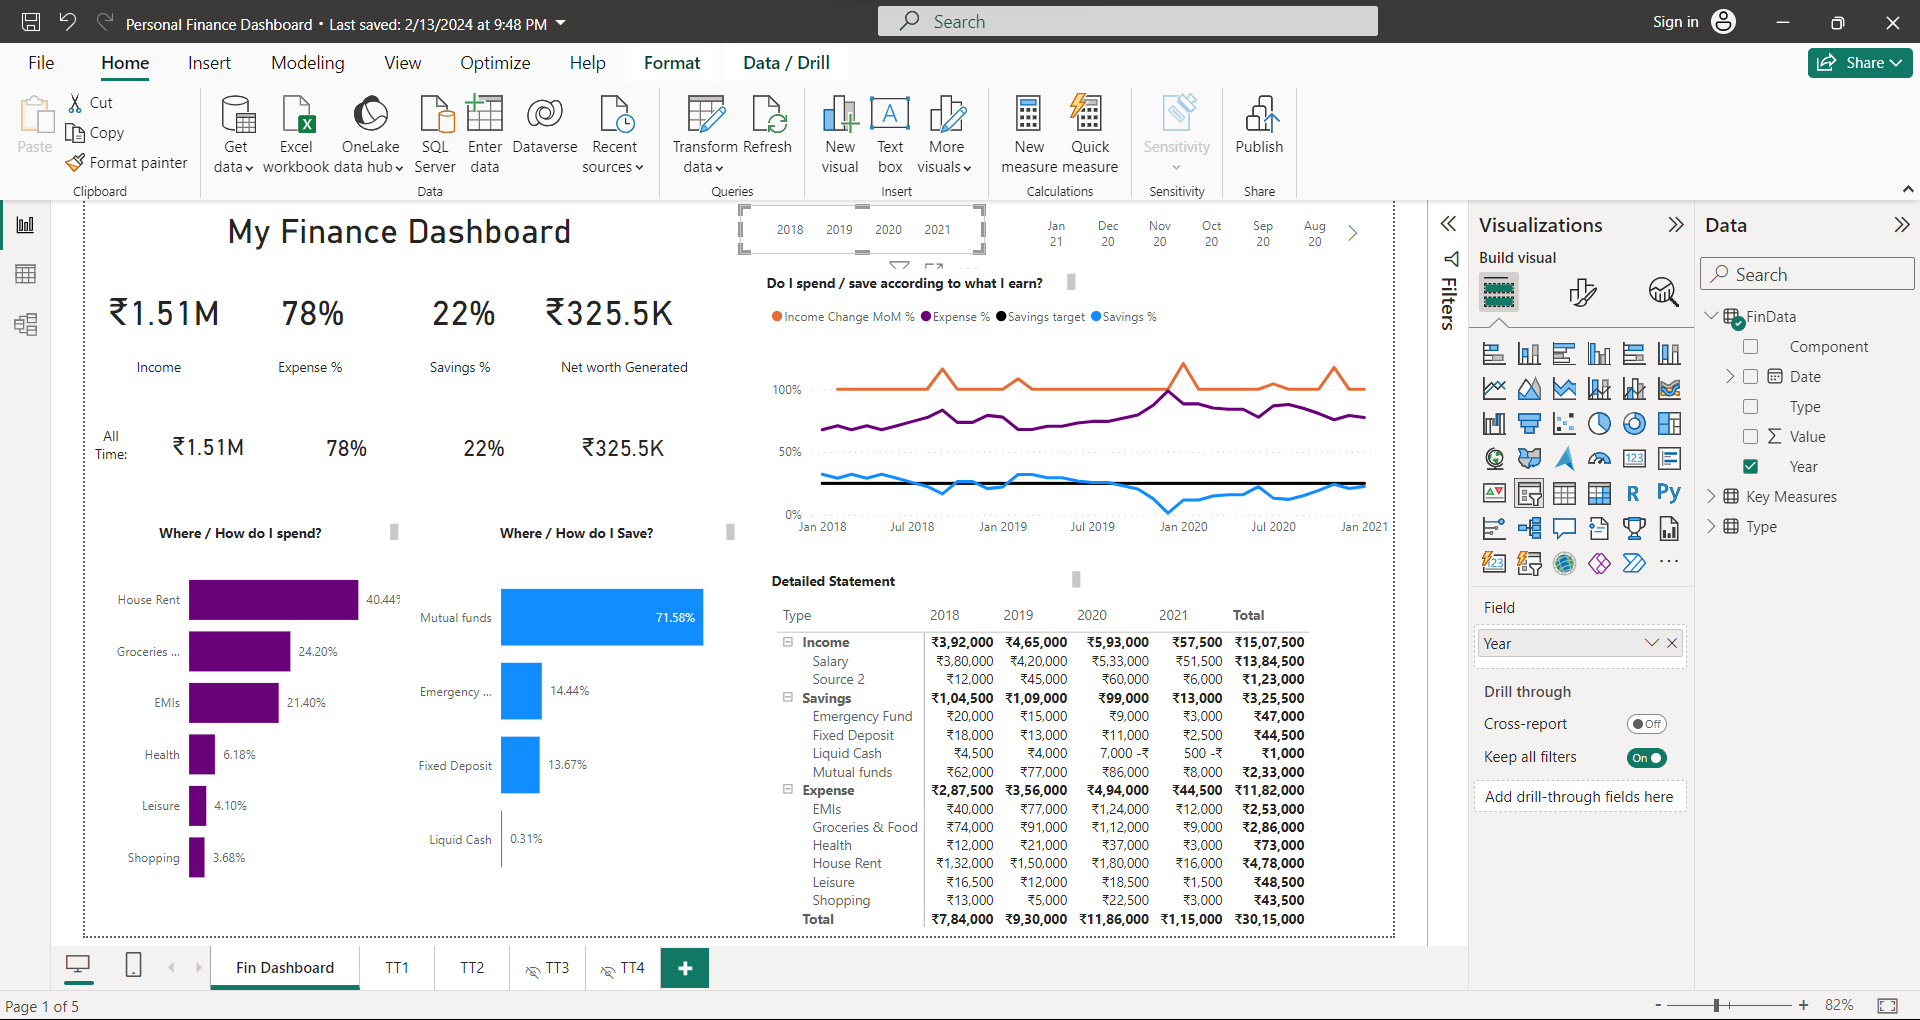

The dashboard page shown, as its layout file describes it:
{"tool":"powerbi","page":{"name":"Fin Dashboard","canvas":[1280,720],"ordinal":0},"visuals":[{"type":"card","fields":{"Values":["Key Measures.Total Income"]},"box":[8.2,44.5,137.6,126.7],"z":0},{"type":"card","fields":{"Values":["Key Measures.Expense %"]},"box":[153.7,44.5,137.6,126.7],"z":1000},{"type":"card","fields":{"Values":["Key Measures.Savings %"]},"box":[302.2,44.5,137.6,126.7],"z":2000},{"type":"card","fields":{"Values":["Key Measures.Total Saving"]},"box":[443.7,44.5,137.6,126.7],"z":3000},{"type":"textbox","box":[12.2,149.4,119.8,29.7],"z":4000},{"type":"textbox","box":[160.6,149.4,119.8,29.7],"z":5000},{"type":"textbox","box":[307.1,149.4,119.8,29.7],"z":6000},{"type":"textbox","box":[448.9,149.4,157.4,41.6],"z":7000},{"type":"slicer","fields":{"Values":["FinData.Year"]},"box":[640,5.2,240.4,47.6],"z":8000},{"type":"slicer","fields":{"Values":["FinData.Date"]},"box":[899.6,4.9,351.3,47.5],"z":9000},{"type":"card","fields":{"Values":["Key Measures.Total Saving"]},"box":[456.6,179.2,137.6,126.7],"z":10000},{"type":"card","fields":{"Values":["Key Measures.Savings %"]},"box":[321.7,179.2,137.6,126.7],"z":11000},{"type":"card","fields":{"Values":["Key Measures.Expense %"]},"box":[186.7,179.2,137.6,126.7],"z":12000},{"type":"card","fields":{"Values":["Key Measures.Total Income"]},"box":[51.8,179.1,137.6,126.7],"z":13000},{"type":"textbox","box":[0.6,216.7,50.5,52.5],"z":14000},{"type":"card","fields":{"Values":["Key Measures.Title"]},"box":[59.4,1,486.9,52.5],"z":15000},{"type":"clusteredBarChart","fields":{"Category":["FinData.Component"],"Y":["Key Measures.Total Expense"]},"box":[10.9,338.5,313.7,350.4],"z":16000},{"type":"textbox","box":[0,311.4,311.4,26.8],"z":17000},{"type":"clusteredBarChart","fields":{"Category":["FinData.Component"],"Y":["Key Measures.Total Saving"]},"box":[307.8,338.5,344.4,350.4],"z":18000},{"type":"textbox","box":[328.6,311.4,311.4,26.8],"z":19000},{"type":"lineChart","fields":{"Y":["Key Measures.Income Change MoM %","Key Measures.Expense %","Key Measures.Savings target","Key Measures.Savings %"],"Category":["FinData.Date"]},"box":[665.9,94.3,614.1,243.9],"z":20000},{"type":"textbox","box":[660.8,67.5,312.2,26.8],"z":21000},{"type":"pivotTable","fields":{"Values":["Key Measures.Values"],"Columns":["FinData.Year","FinData.Date"],"Rows":["Type.Type","FinData.Component"]},"box":[672,390.9,604.5,329.5],"z":22000},{"type":"textbox","box":[665.9,358.1,312.2,26.8],"z":23000}]}

Visuals, with their boxes on the page's 1280x720 design canvas (x1, y1, x2, y2). These are canvas units, not pixel positions in the 1920x1020 screenshot, which may show the page scaled, cropped or inside an application window:
card - Key Measures.Total Income: BBox(8, 44, 146, 171)
card - Key Measures.Expense %: BBox(154, 44, 291, 171)
card - Key Measures.Savings %: BBox(302, 44, 440, 171)
card - Key Measures.Total Saving: BBox(444, 44, 581, 171)
textbox: BBox(12, 149, 132, 179)
textbox: BBox(161, 149, 280, 179)
textbox: BBox(307, 149, 427, 179)
textbox: BBox(449, 149, 606, 191)
slicer - FinData.Year: BBox(640, 5, 880, 53)
slicer - FinData.Date: BBox(900, 5, 1251, 52)
card - Key Measures.Total Saving: BBox(457, 179, 594, 306)
card - Key Measures.Savings %: BBox(322, 179, 459, 306)
card - Key Measures.Expense %: BBox(187, 179, 324, 306)
card - Key Measures.Total Income: BBox(52, 179, 189, 306)
textbox: BBox(1, 217, 51, 269)
card - Key Measures.Title: BBox(59, 1, 546, 54)
clusteredBarChart - FinData.Component x Key Measures.Total Expense: BBox(11, 338, 325, 689)
textbox: BBox(0, 311, 311, 338)
clusteredBarChart - FinData.Component x Key Measures.Total Saving: BBox(308, 338, 652, 689)
textbox: BBox(329, 311, 640, 338)
lineChart - Key Measures.Income Change MoM % x Key Measures.Expense %: BBox(666, 94, 1280, 338)
textbox: BBox(661, 68, 973, 94)
pivotTable - Key Measures.Values x FinData.Year: BBox(672, 391, 1276, 720)
textbox: BBox(666, 358, 978, 385)
